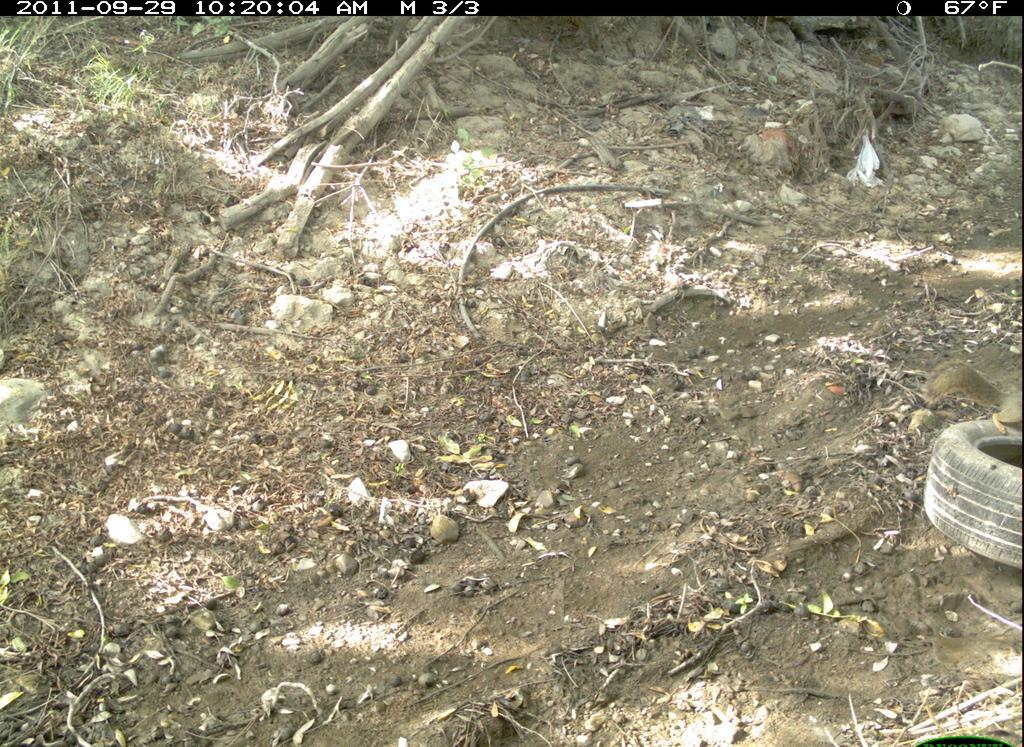squirrel: (912, 336, 1018, 449)
